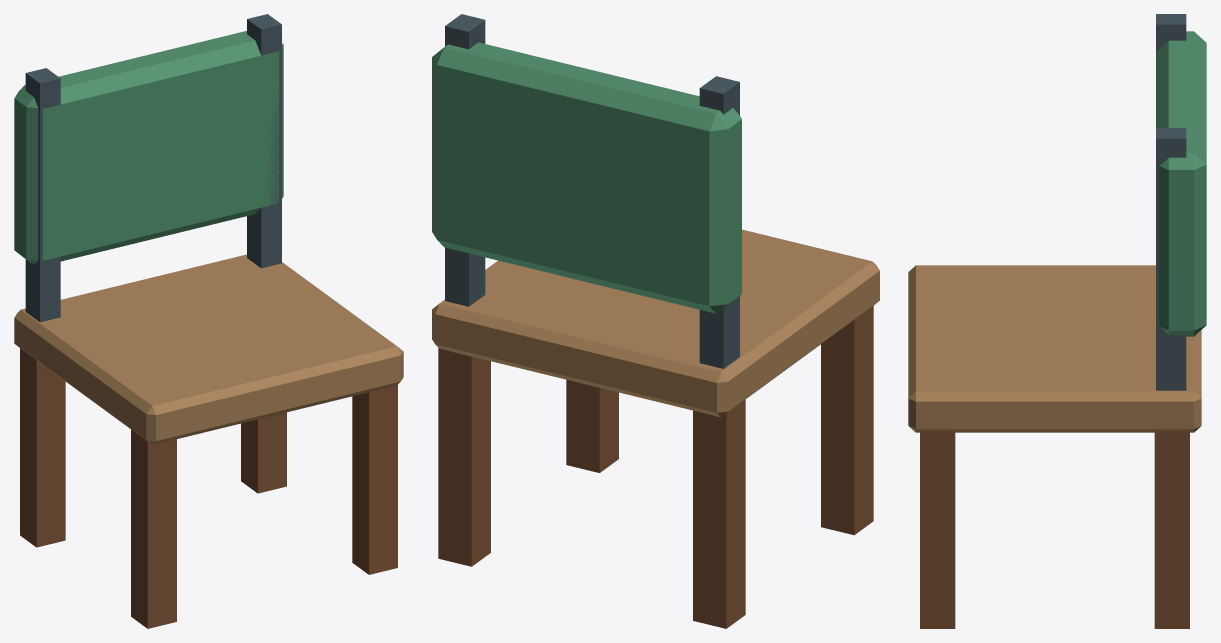
The model's file is dining_chair.glb.
3 views of the same model, side by side, from view 1: azimuth 30°, elevation 25°; view 2: azimuth 150°, elevation 25°; view 3: azimuth 270°, elevation 25° (orthographic). The views are drawn at different scales.
Parts seen in each view (by area): view 1: dining_chair; view 2: dining_chair; view 3: dining_chair.
Boxes of the visible parts, x1,y1,x2,y2 form: dining_chair: (14,14,403,628); dining_chair: (432,14,879,628); dining_chair: (908,14,1206,628).
Size of the model in its own units: 0.62 by 1.06 by 0.59.
